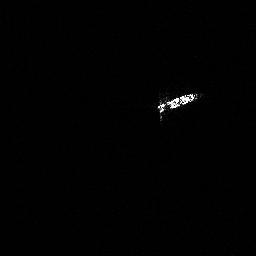ship: (153, 87, 203, 122)
